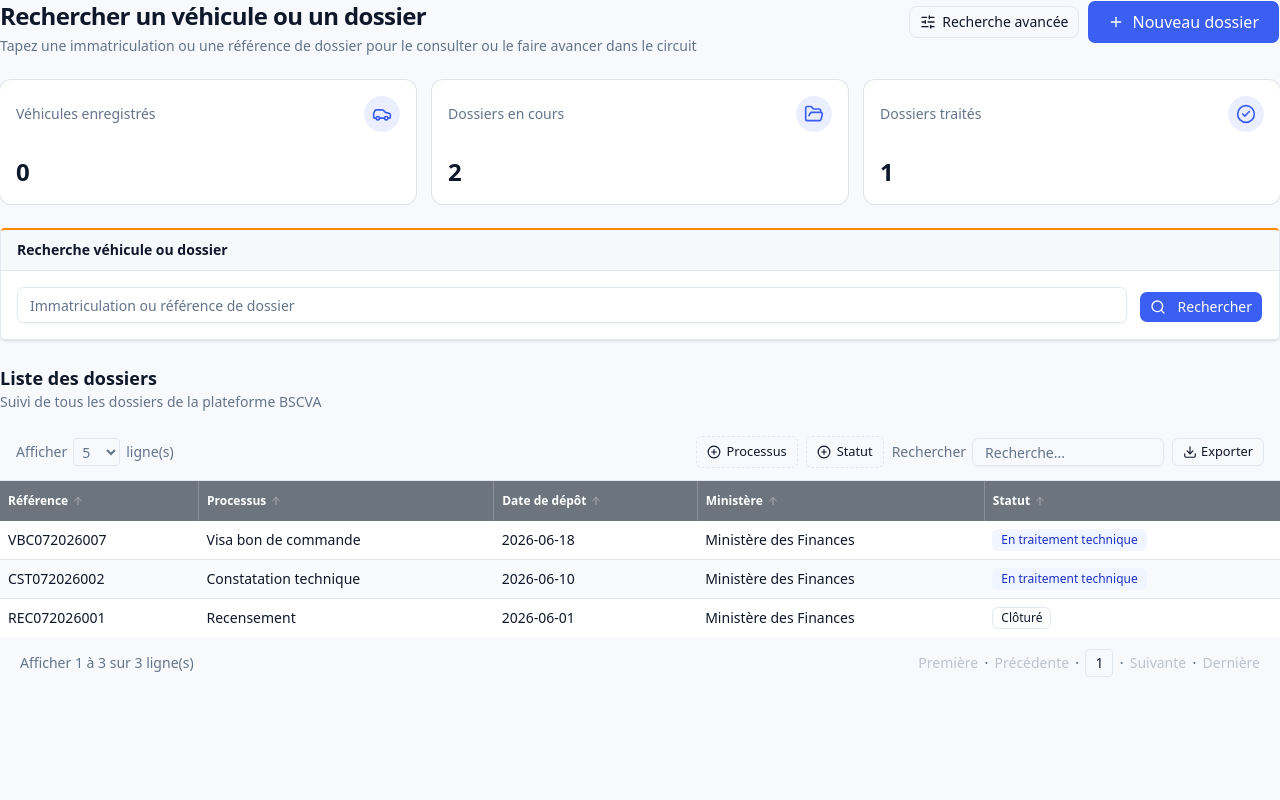
Test: TraitementDossierPage — recherche avancée (liste) › narrows results by reference and reset restores the full list
Expected: the text "VBC072026007" is shown, [0,521,198,560]
Click the button with test id "dossiers-search-toggle-button": coordinates (994, 22) [909,6,1080,38]
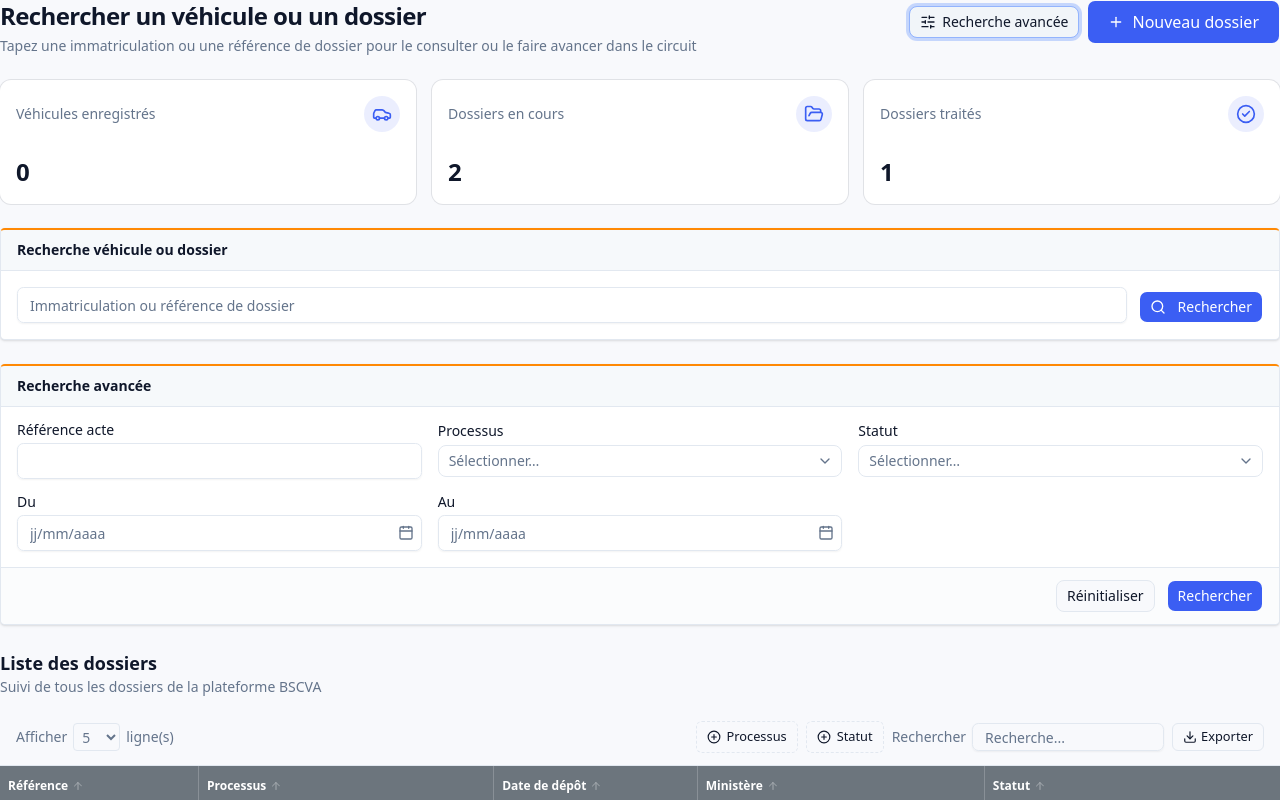
In the field with test id "form-field-reference-input": coordinates (219, 461) [17,443,422,479], type "REC072026001"
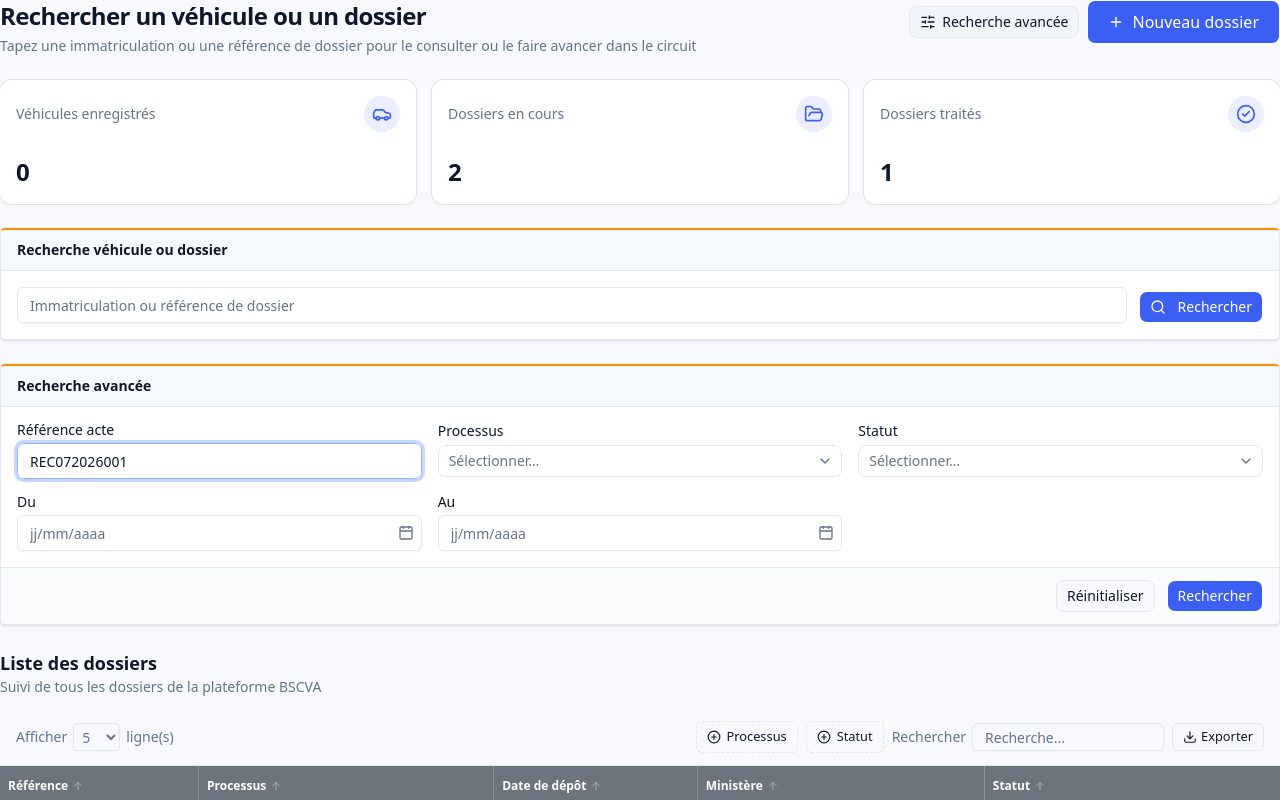
Click the button with test id "dossiers-search-submit-button": coordinates (1215, 596) [1167,580,1263,612]
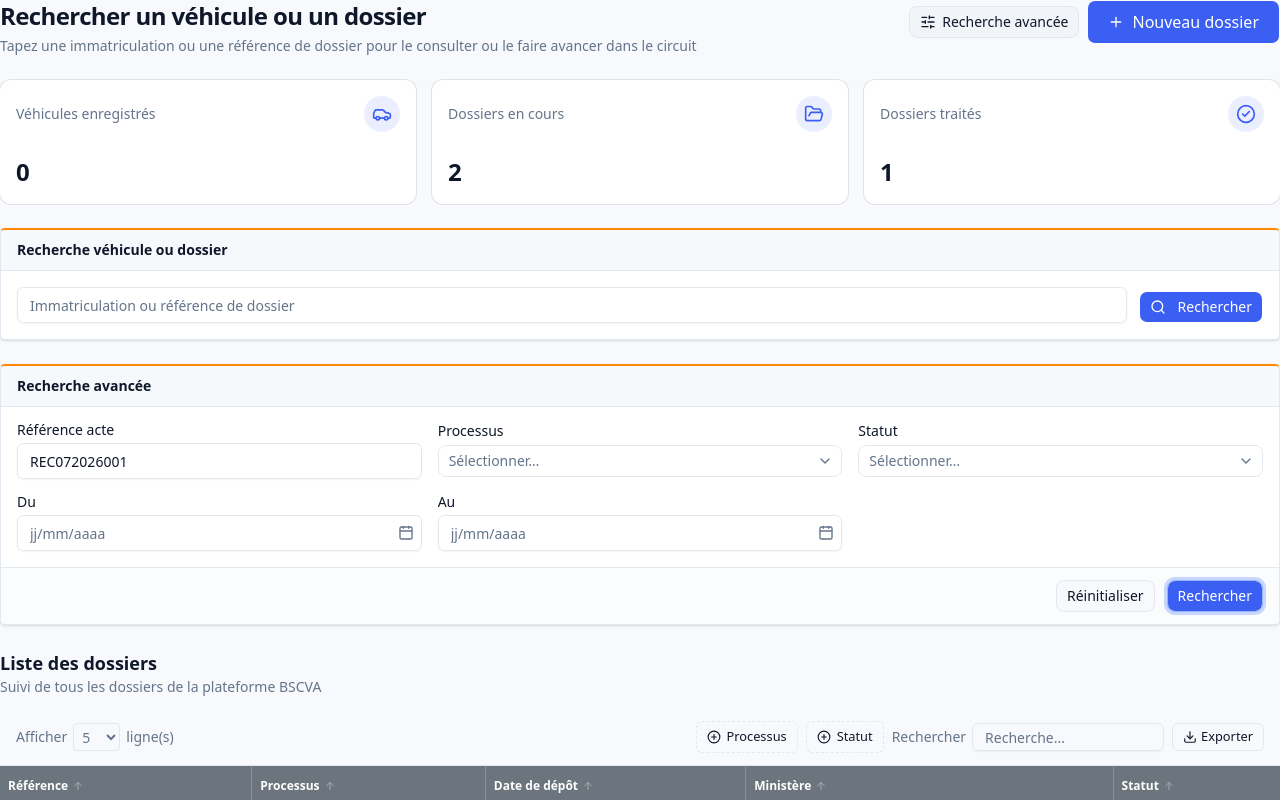
Click the button with test id "dossiers-search-reset-button": coordinates (1105, 596) [1056,580,1155,612]
(page scrolled)
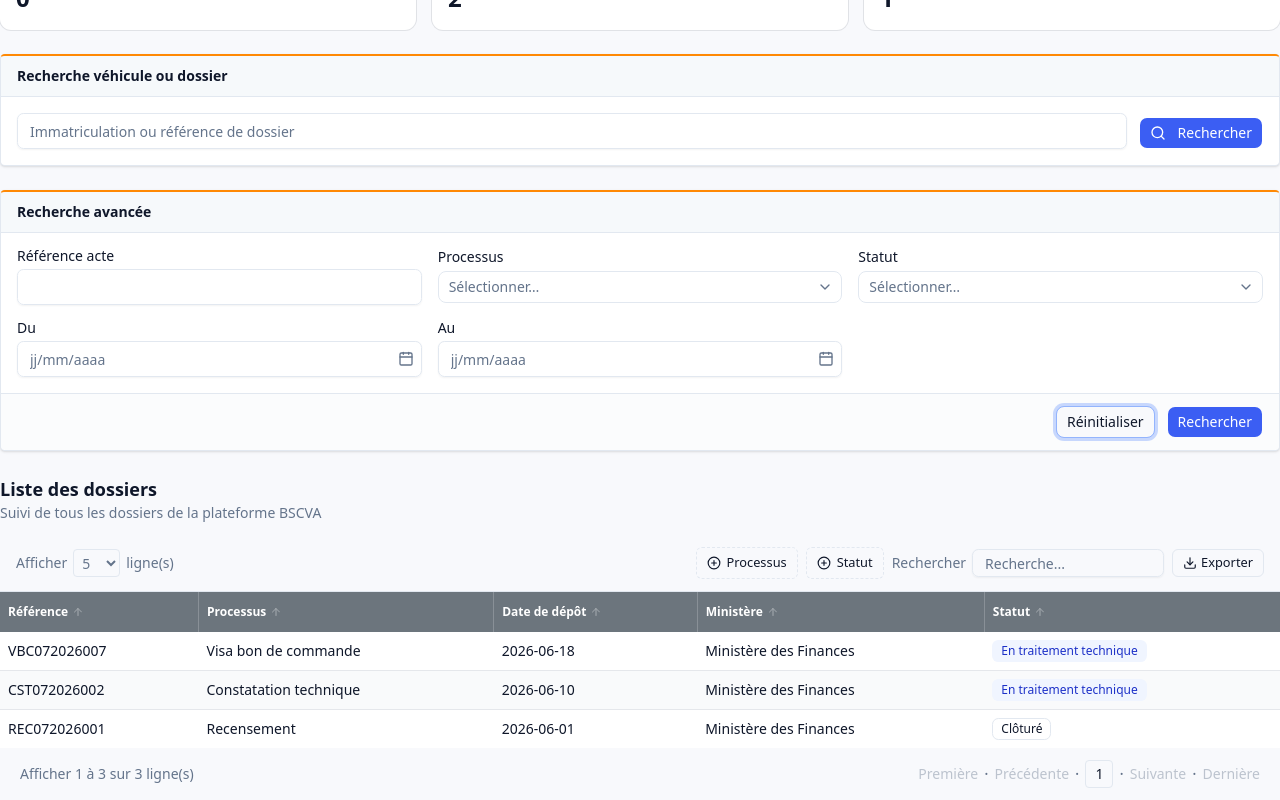
Result: the text "VBC072026007" is shown at [0,632,198,670]
